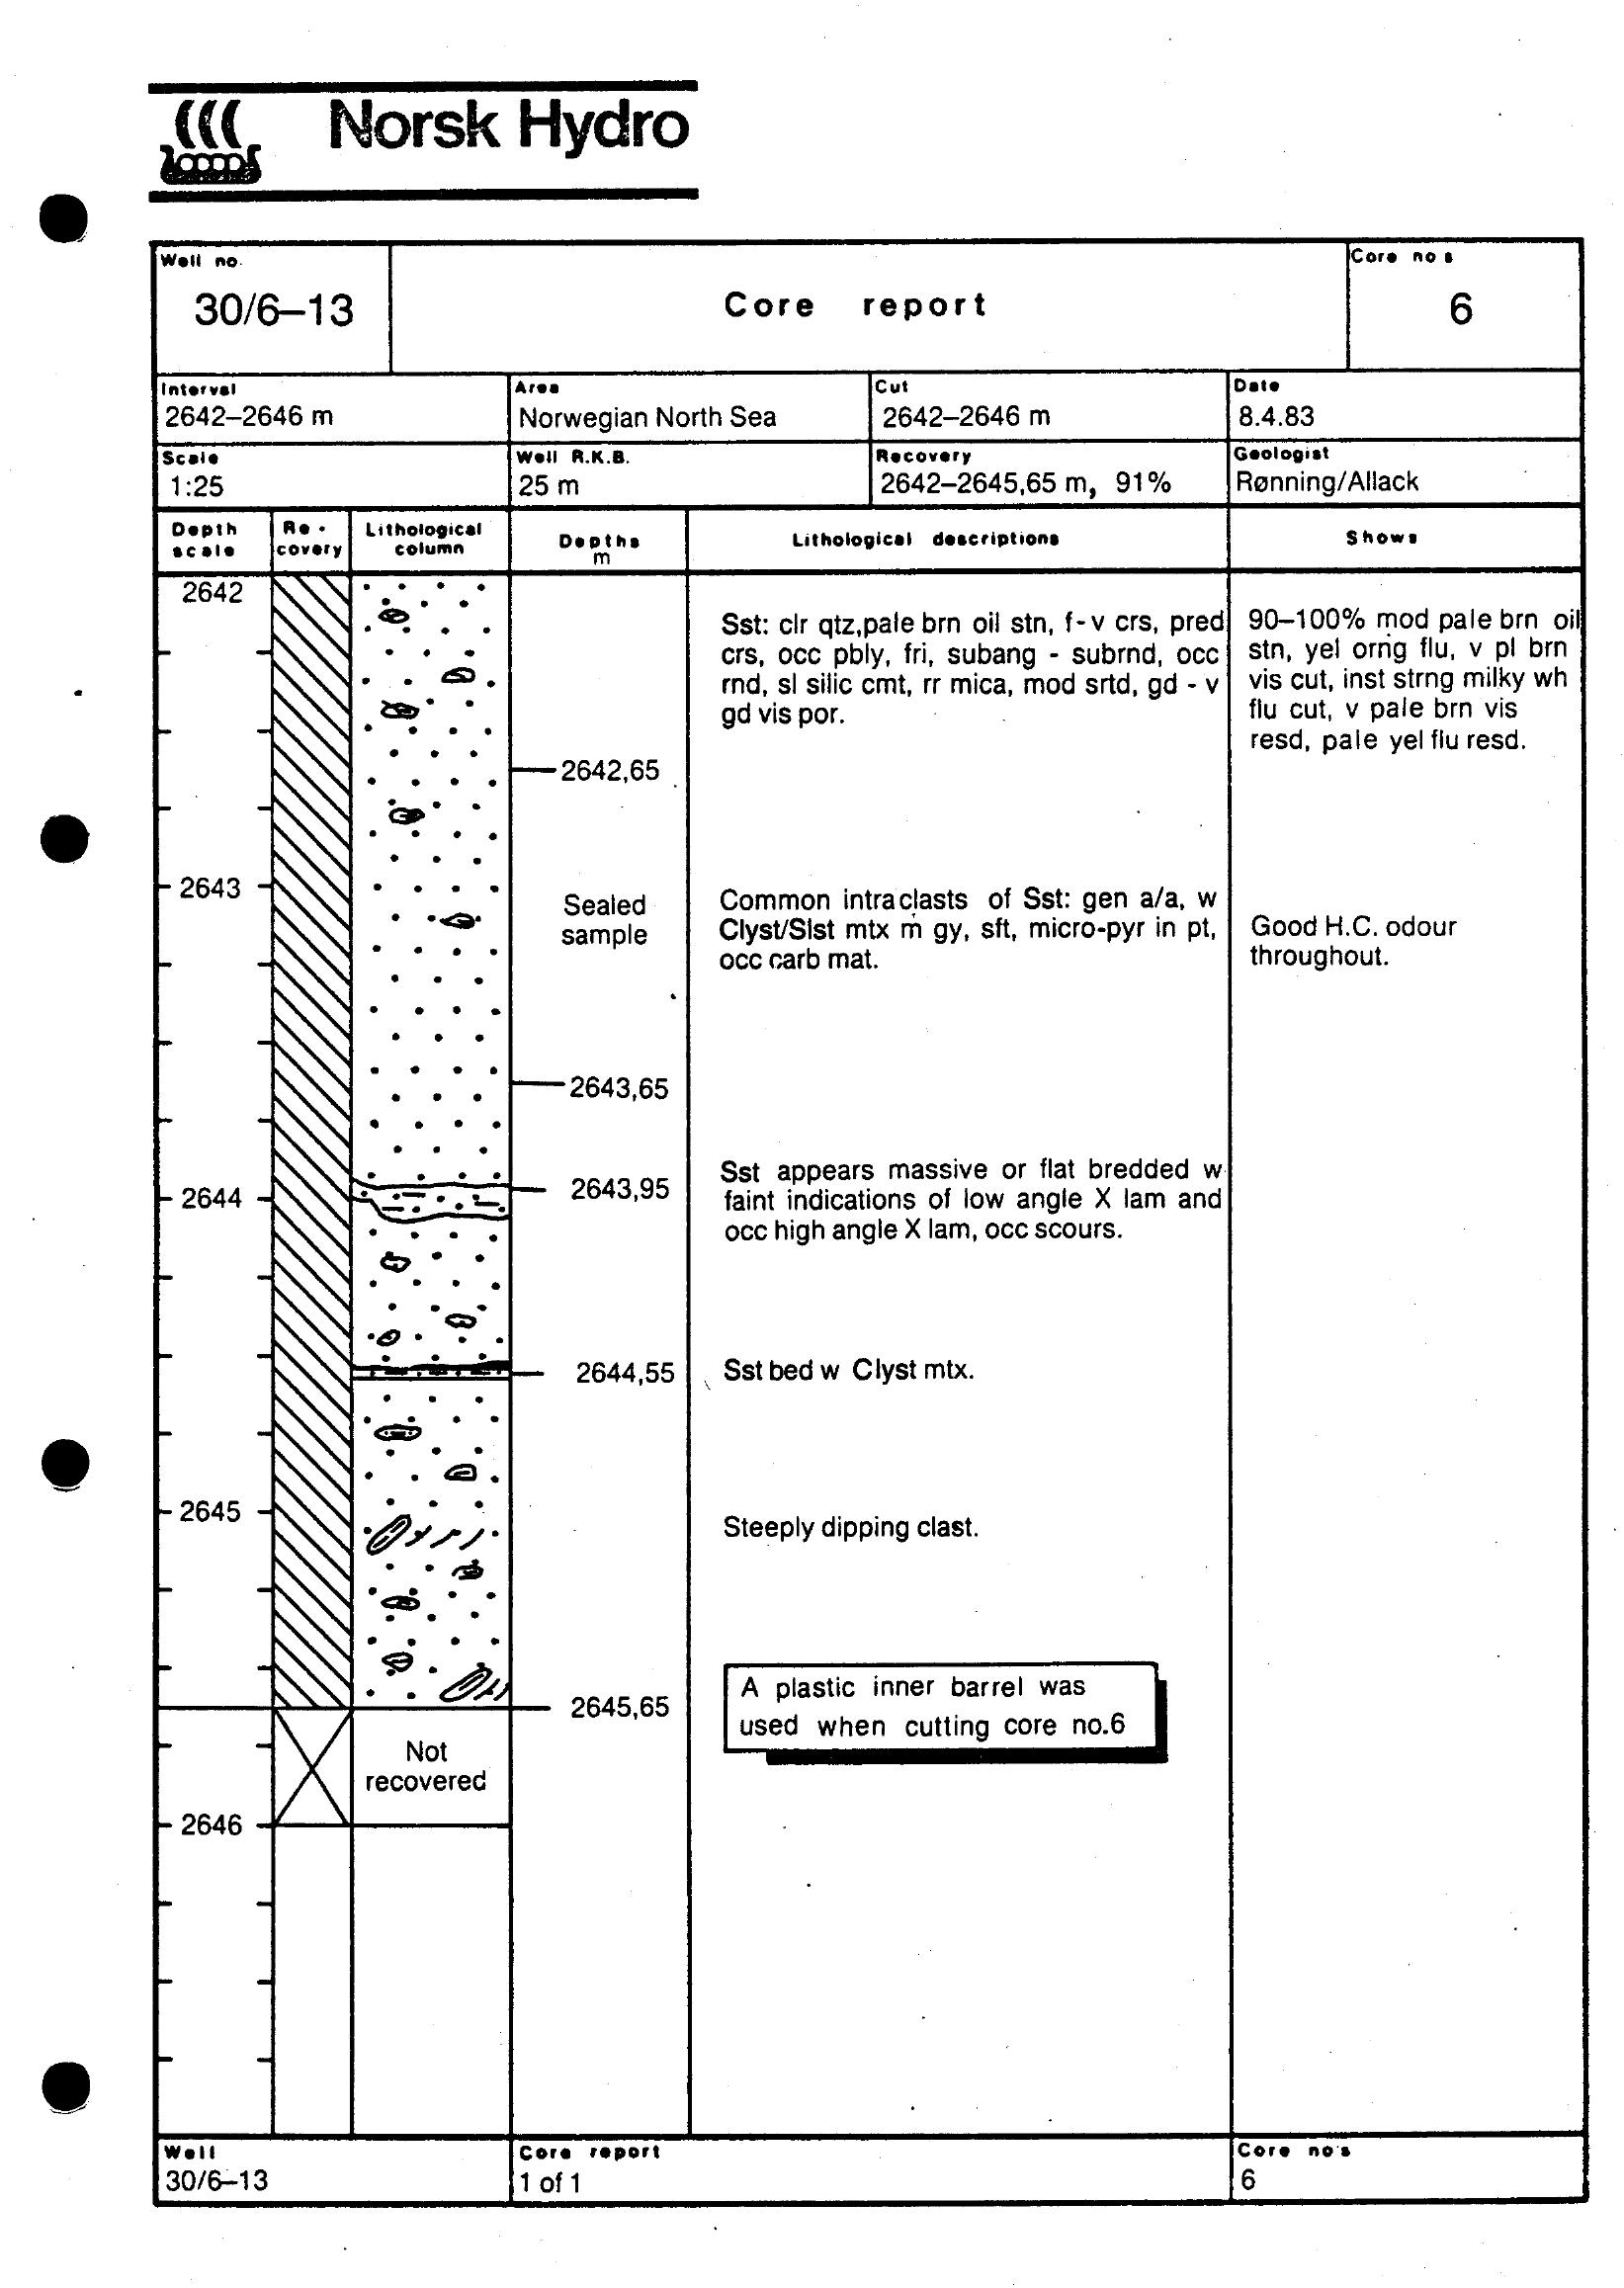graph: (123, 223, 1624, 2216)
undefined: (130, 67, 733, 220)
